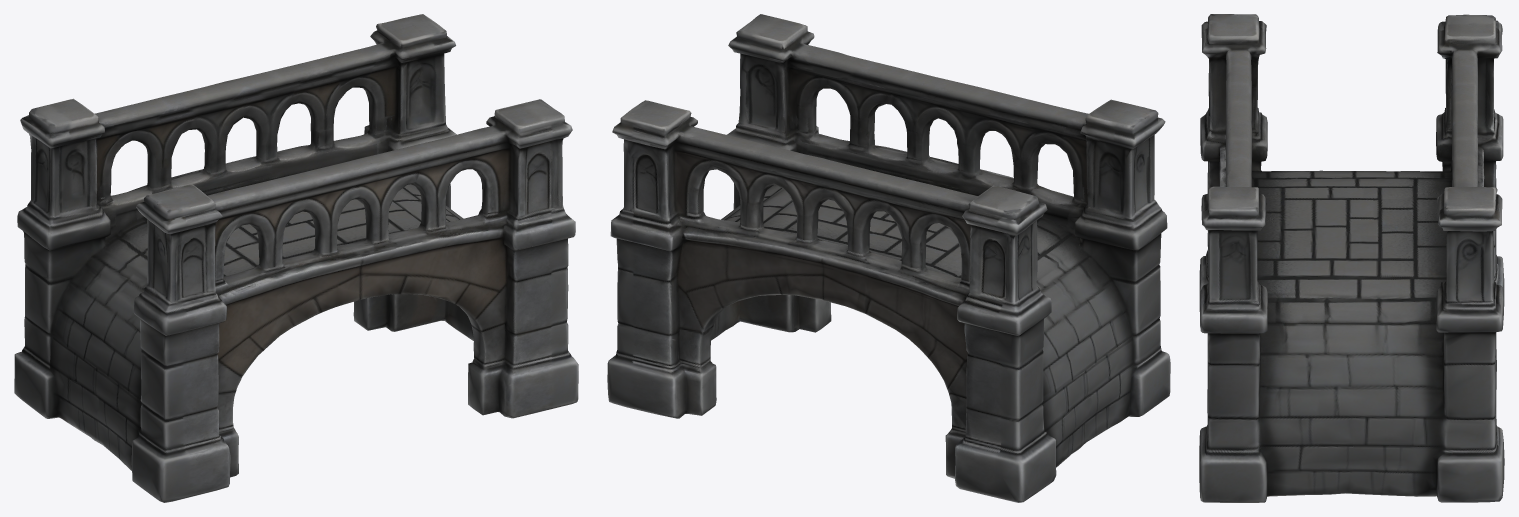
Rendered from stone_bridge.glb.
3 views of the same model, side by side, from view 1: azimuth 30°, elevation 25°; view 2: azimuth 150°, elevation 25°; view 3: azimuth 270°, elevation 25° (orthographic).
Size of the model in its own units: 2 by 1.32 by 1.25.
1 material, 1 textured.
